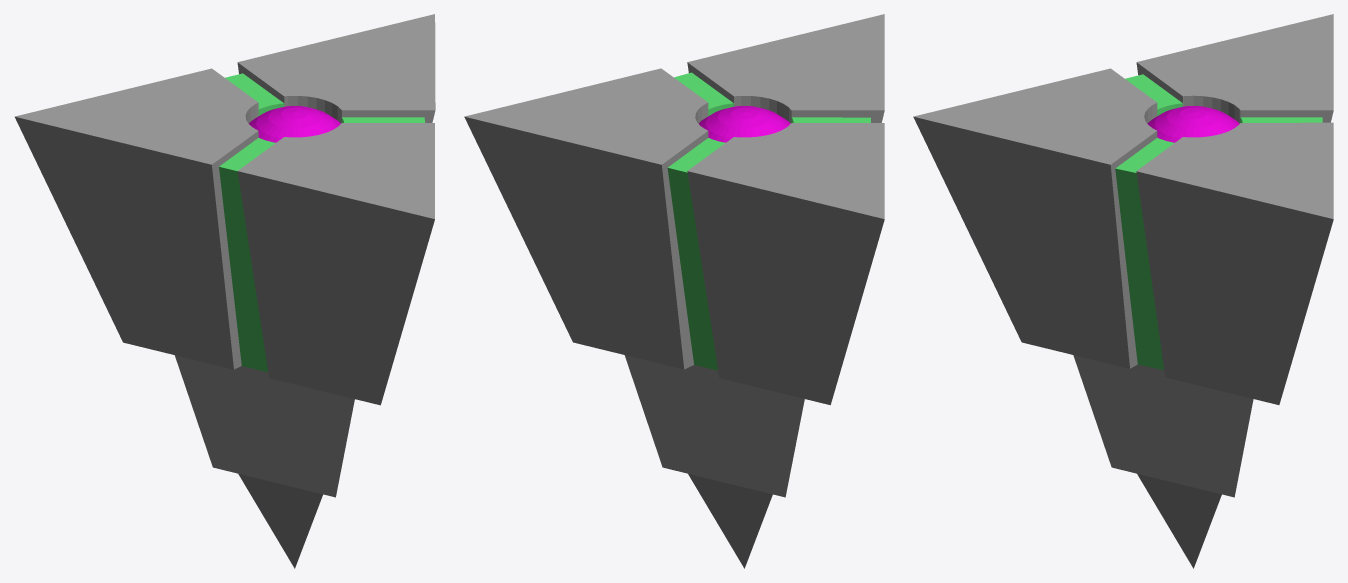
The model's file is forme_triangle2.fbx.
3 renders of one model, left to right at view 1: azimuth 30°, elevation 25°; view 2: azimuth 150°, elevation 25°; view 3: azimuth 270°, elevation 25°, orthographic.
Parts seen in each view (by area): view 1: triangle; view 2: triangle; view 3: triangle.
Boxes of the visible parts, left/top/right/bottom form: triangle: left=15, top=14, right=435, bottom=568; triangle: left=464, top=14, right=884, bottom=568; triangle: left=913, top=14, right=1333, bottom=568.
Bounding box in the file's own units: 192 × 199 × 166.
